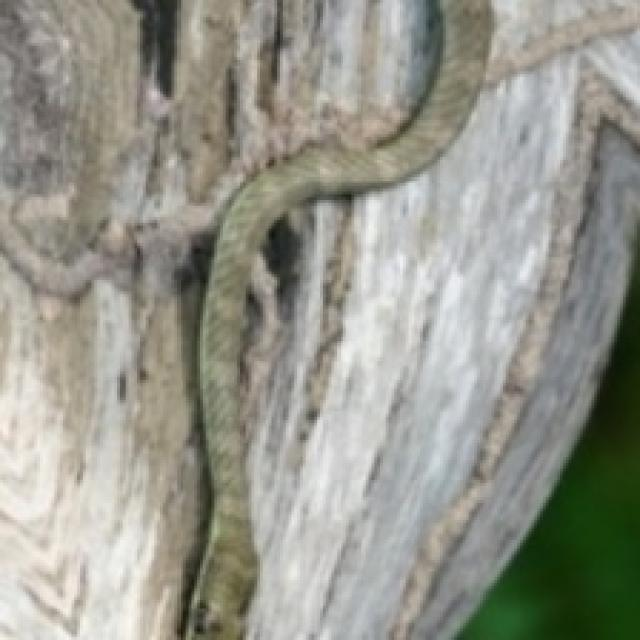paradise tree snake: (186, 0, 489, 637)
